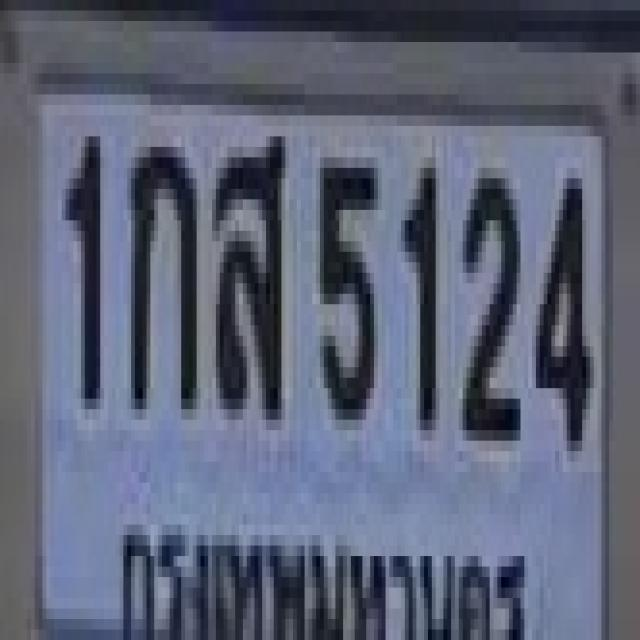1: (62, 126, 96, 399), (401, 157, 432, 420)
2: (458, 168, 516, 430)
4: (532, 168, 586, 441)
5: (316, 147, 374, 409)
A01: (127, 136, 193, 399)
A40: (212, 126, 281, 409)
BKK: (113, 502, 537, 640)
